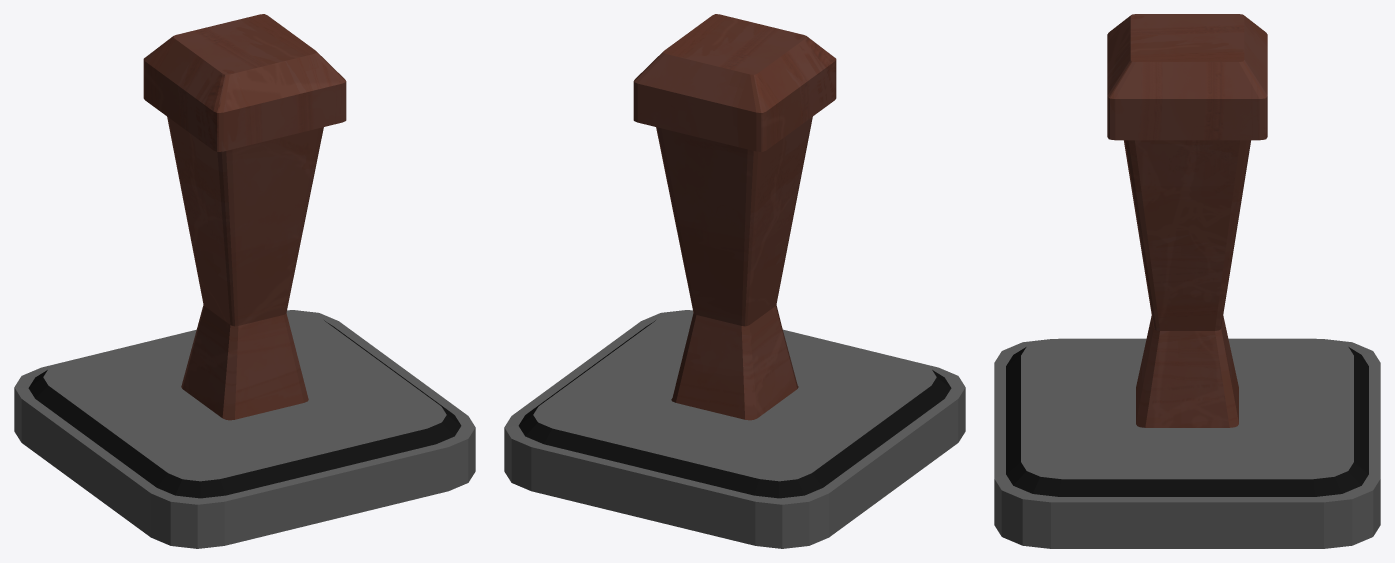
File: Carimbo.glb
The picture shows the model from 3 angles, left to right: view 1: azimuth 30°, elevation 25°; view 2: azimuth 150°, elevation 25°; view 3: azimuth 270°, elevation 25°; orthographic projection. The views are drawn at different scales.
Visible parts, largest first — view 1: Cube; view 2: Cube; view 3: Cube.
Boxes of the visible parts, bbox=[...] form: Cube: bbox=[14, 14, 475, 548]; Cube: bbox=[504, 14, 965, 548]; Cube: bbox=[994, 14, 1380, 548].
Size of the model in its own units: 2 by 2.45 by 2.
Materials: 4 (1 with a texture image).
